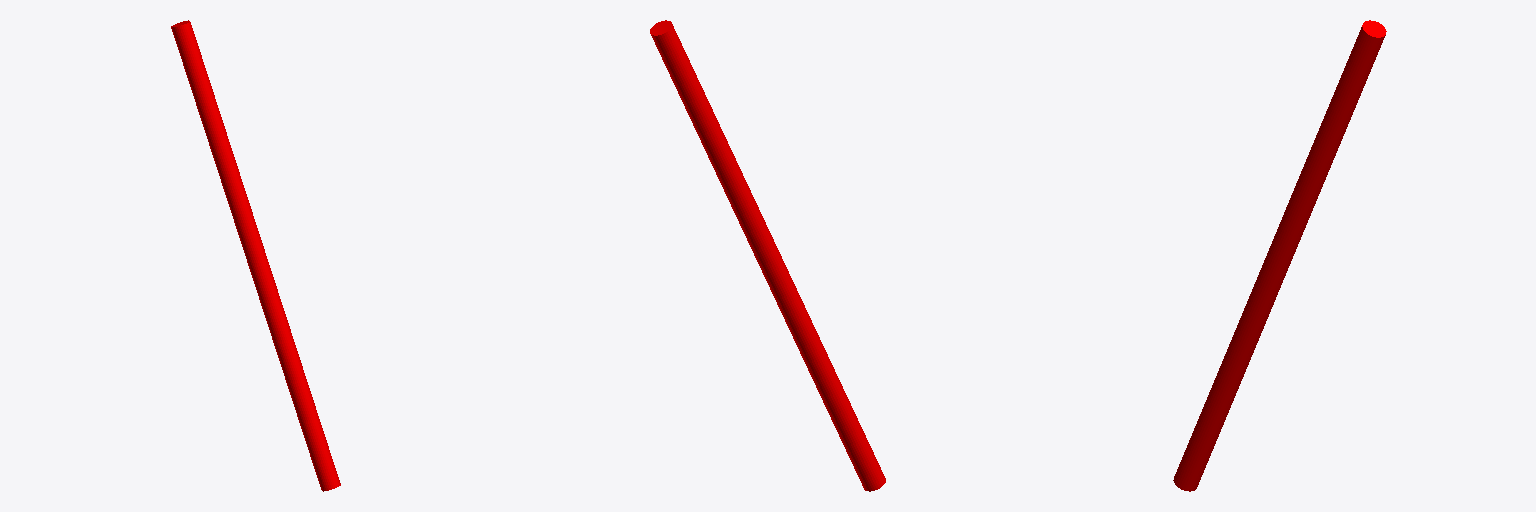
The robot description file, URDF, robot "tree_77.urdf":
<?xml version='1.0' encoding='utf-8'?>
<robot name="tree_77.urdf">
  <link name="branch_0">
    <inertial>
      <origin xyz="0.0 0.0 0.0" rpy="0.0 -0.0 0.0" />
      <mass value="1.0" />
      <inertia ixx="1.0" ixy="0.0" ixz="0.0" iyy="1.0" iyz="0.0" izz="1.0" />
    </inertial>
    <visual name="branch_0_visual">
      <geometry>
        <cylinder radius="0.07292693905738148" length="3.5689987508096785" />
      </geometry>
      <material name="semantic_material" />
      <origin xyz="0.4354136769727805 0.5434202360375948 1.6430299442767768" rpy="-5.551115123125783e-17 0.40086658885182874 0.8952956569372629" />
    </visual>
    <collision name="branch_0_collision">
      <geometry>
        <cylinder radius="0.07292693905738148" length="3.5689987508096785" />
      </geometry>
      <origin xyz="0.4354136769727805 0.5434202360375948 1.6430299442767768" rpy="-5.551115123125783e-17 0.40086658885182874 0.8952956569372629" />
    </collision>
  </link>
  <material name="semantic_material">
    <color rgba="1. 0. 0. 1." />
  </material>
</robot>

--- What the picture shows (computed from the rendered views, not written in the file) ---
Views: 3 orthographic renders of the robot side by side, from view 1: azimuth 90°, elevation 25°; view 2: azimuth 150°, elevation 25°; view 3: azimuth 270°, elevation 25°.
Robot: tree_77.urdf — 1 links, 0 joints (none); root link branch_0; default pose: all joints at 0.
Links seen in each view (by area): view 1: branch_0; view 2: branch_0; view 3: branch_0.
Link boxes in pixels (<box>): branch_0: <box>171,20,340,491</box>; branch_0: <box>650,20,885,491</box>; branch_0: <box>1173,20,1386,491</box>.
Size in the robot's own frame: 1.01 by 1.23 by 3.34 metres.
Geometry: primitives only (box / cylinder / sphere), no mesh files.